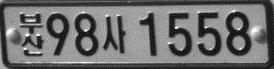1: (136, 11, 162, 56)
5: (167, 12, 192, 57), (196, 11, 221, 56)
8: (224, 10, 251, 57), (73, 12, 99, 57)
9: (44, 12, 70, 56)
부산_V: (18, 11, 44, 57)
사: (101, 14, 126, 54)
